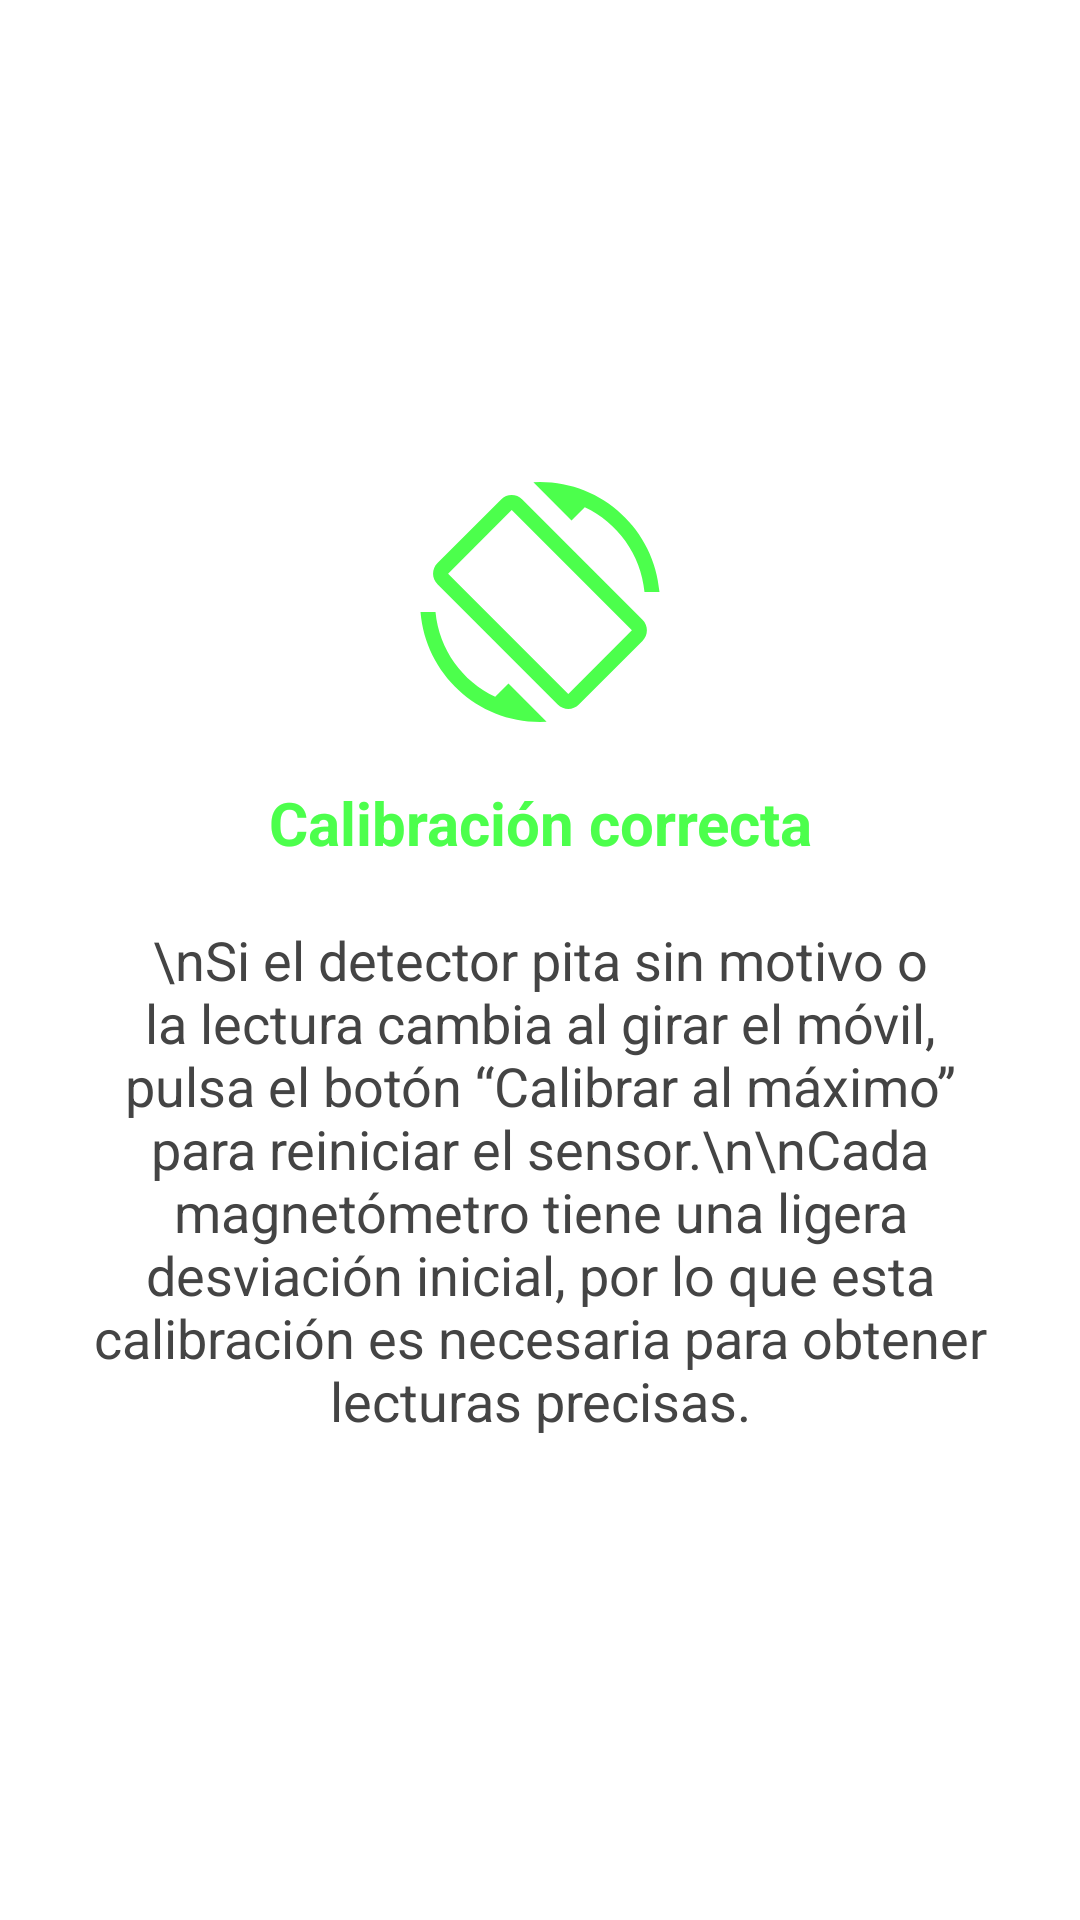

Where to tap for icons on this 1080 x 1920 app screen, as (x,y):
screen rotation: (540,602)
